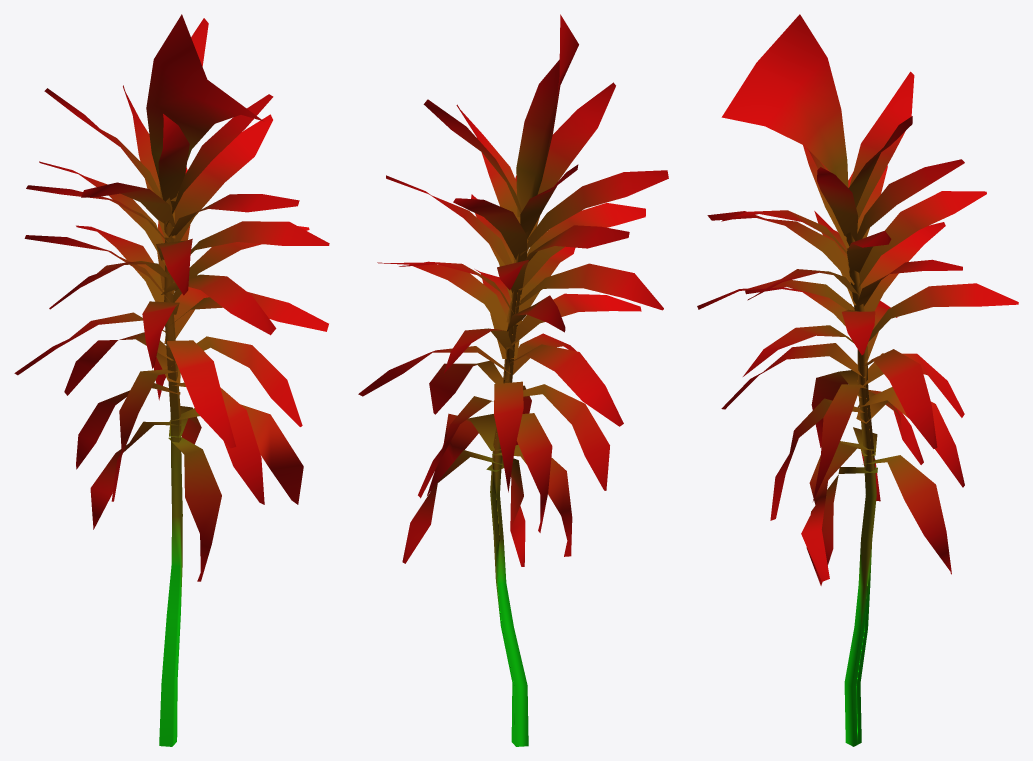
The model's file is Dragon Tree_LOD1_Var1_siumT.fbx.
3 renders of one model, left to right at view 1: azimuth 30°, elevation 25°; view 2: azimuth 150°, elevation 25°; view 3: azimuth 270°, elevation 25°, orthographic. The views are drawn at different scales.
Parts seen in each view (by area): view 1: _b64d_Var1_LOD1; view 2: _b64d_Var1_LOD1; view 3: _b64d_Var1_LOD1.
Boxes of the visible parts, x1,y1,x2,y2 form: _b64d_Var1_LOD1: [14, 14, 329, 746]; _b64d_Var1_LOD1: [358, 14, 668, 746]; _b64d_Var1_LOD1: [697, 14, 1018, 746].
Bounding box in the file's own units: 52.32 × 134 × 54.06.
